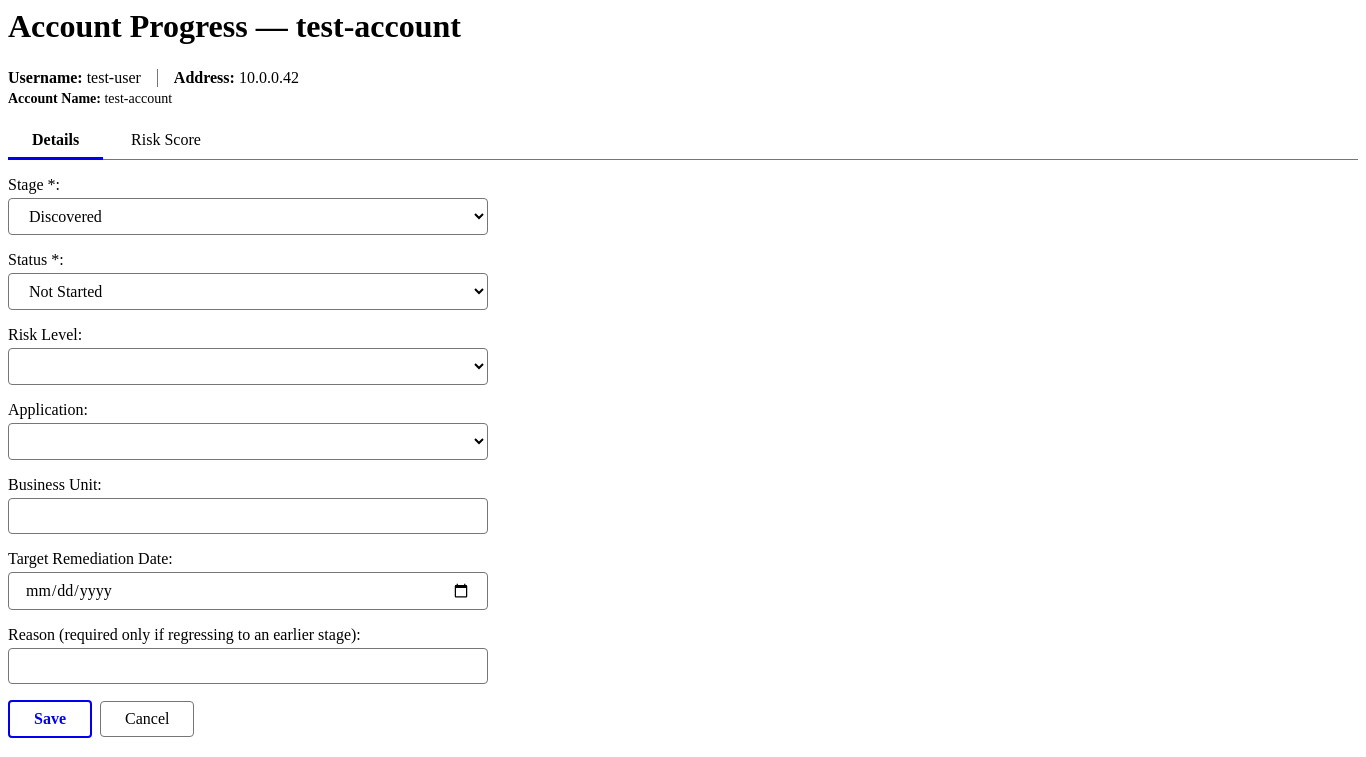
Scenario: AccountProgressDetail.vue › explains that the risk override saves on its own, and says when it has saved
Step 1. Click the tab with id "account-progress-tab-risk-score" → (166, 142), box [107,123,225,160]
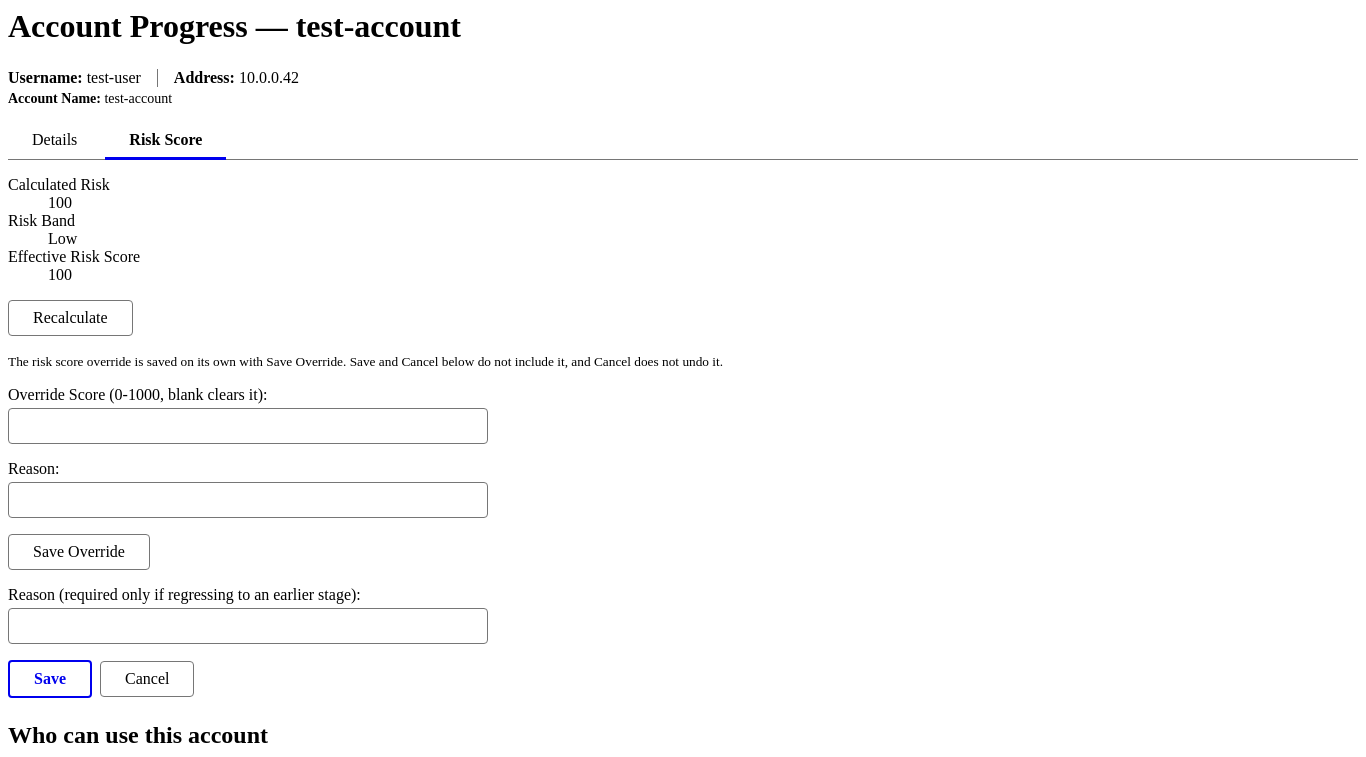
Now the text "saved on its own with Save Override" is shown, box [8,354,723,369]
Step 2. Click the button "Save Override" → (79, 552), box [8,534,150,570]
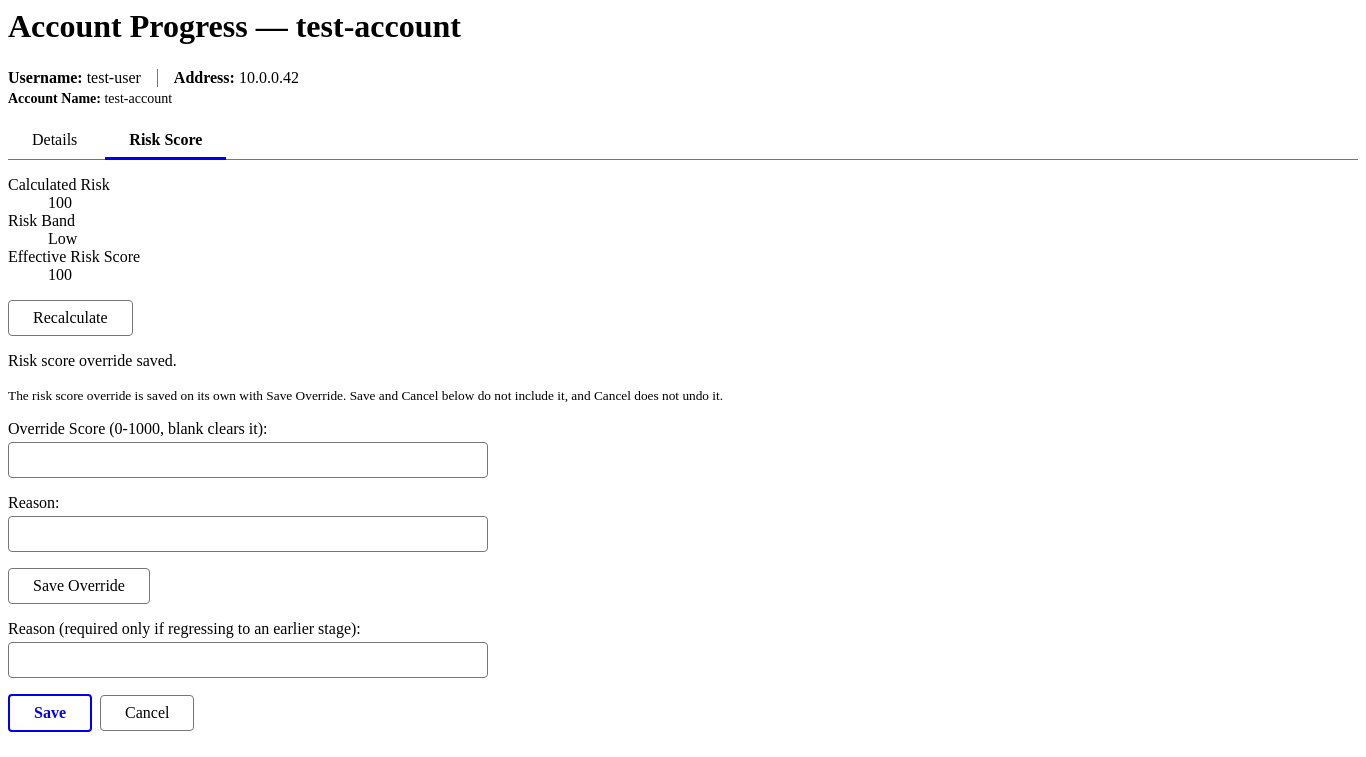
Now the text "Risk score override saved." is shown, box [8,352,177,369]
